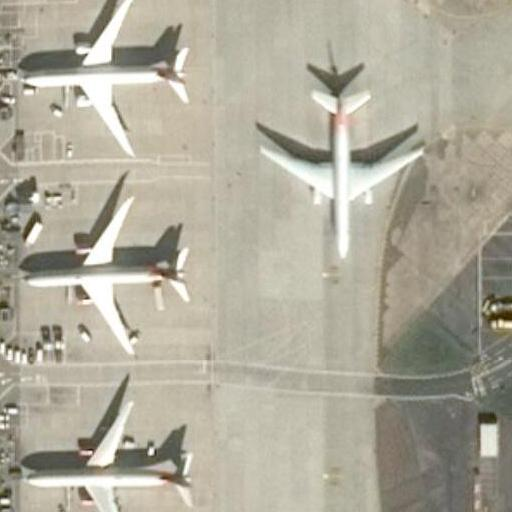Aircraft: (249, 75, 423, 266), (2, 0, 199, 152), (16, 194, 201, 354), (4, 391, 202, 512)
